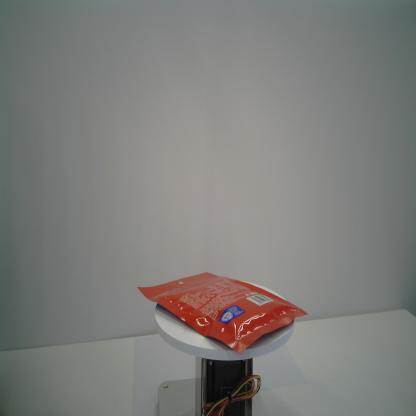Dried Fruit: (137, 270, 308, 354)
